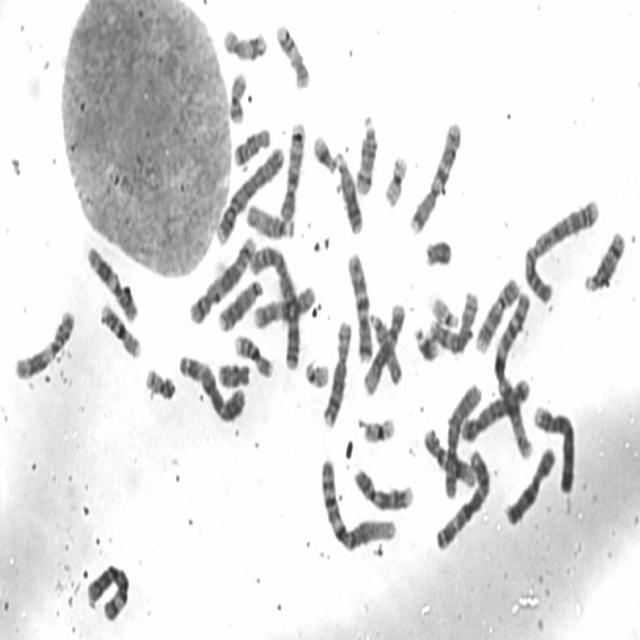A1: (317, 450, 399, 553), (491, 281, 535, 463)
A2: (520, 192, 602, 305), (247, 242, 302, 372)
A3: (432, 445, 492, 553), (176, 348, 248, 425)
B4: (213, 140, 285, 246), (530, 399, 577, 495)
B5: (184, 228, 257, 326), (458, 372, 531, 445)
C10: (252, 281, 318, 331), (278, 118, 307, 223)
C11: (9, 304, 76, 382), (84, 240, 140, 326)
C12: (361, 299, 406, 396), (423, 426, 480, 492)
C6: (441, 376, 483, 501), (84, 558, 131, 624)
C7: (406, 114, 464, 235), (344, 245, 374, 364)
C8: (318, 314, 354, 431), (427, 285, 480, 357)
C9: (472, 271, 520, 356), (350, 463, 415, 514)
D13: (216, 274, 265, 334), (333, 146, 365, 236)
D14: (580, 224, 627, 294), (352, 108, 379, 196)
D15: (366, 308, 404, 388), (244, 198, 297, 241)
E16: (97, 297, 142, 361), (232, 329, 276, 379)
E17: (273, 18, 312, 91), (220, 23, 268, 64)
E18: (230, 120, 272, 168), (214, 356, 254, 390)
F19: (381, 150, 409, 208), (358, 410, 398, 445)
F20: (142, 361, 177, 403), (226, 66, 248, 125)
G21: (310, 128, 340, 176), (411, 321, 440, 364)
G22: (428, 289, 460, 330), (302, 354, 332, 391)
X: (502, 442, 558, 528)
Y: (422, 235, 453, 270)
